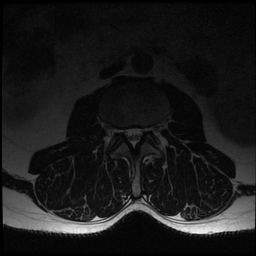CCS_normal: (130, 120, 137, 154)
LFS_stenosis: (144, 118, 152, 140)
LLS_normal: (137, 119, 144, 146)
RFS_stenosis: (115, 118, 123, 142)
RLS_normal: (123, 121, 130, 146)
